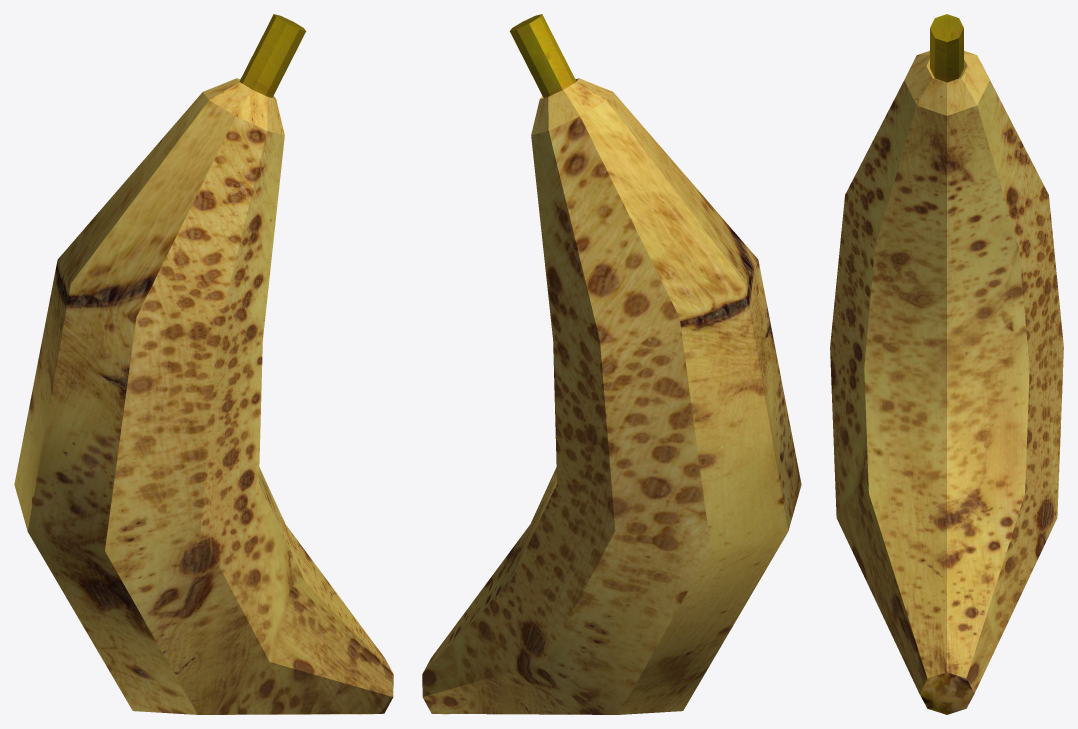
The model's file is Banana Model.fbx.
3 renders of one model, left to right at view 1: azimuth 30°, elevation 25°; view 2: azimuth 150°, elevation 25°; view 3: azimuth 270°, elevation 25°, orthographic. The views are drawn at different scales.
Parts seen in each view (by area): view 1: Banana; view 2: Banana; view 3: Banana.
Boxes of the visible parts, x1,y1,x2,y2 form: Banana: [14, 14, 393, 714]; Banana: [422, 14, 801, 714]; Banana: [830, 14, 1063, 714].
Bounding box in the file's own units: 3.24 × 6.21 × 2.
Materials: 1 (1 with a texture image).
